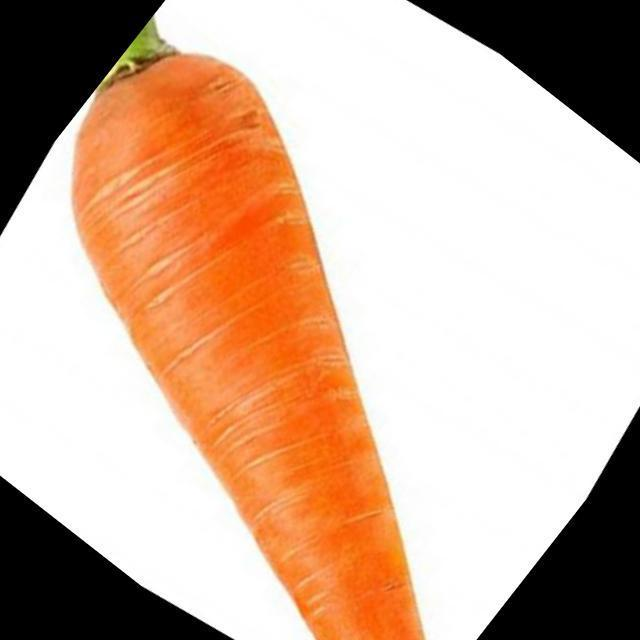Carrot: (74, 20, 424, 639)
